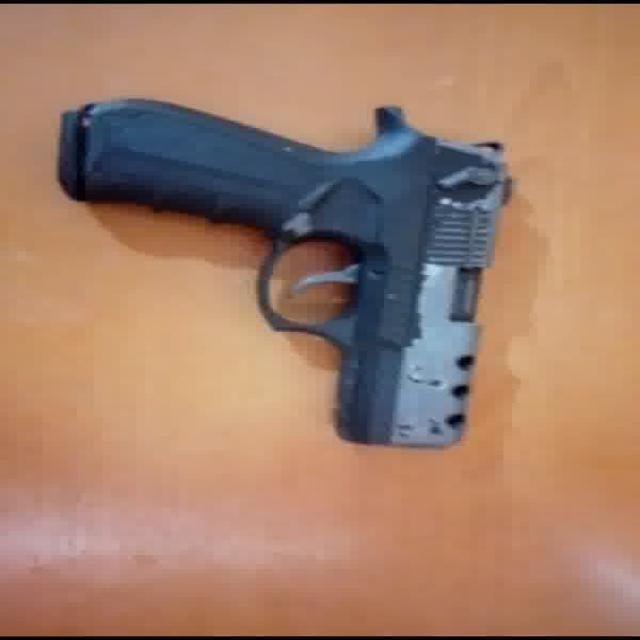weapon: (56, 96, 514, 448)
